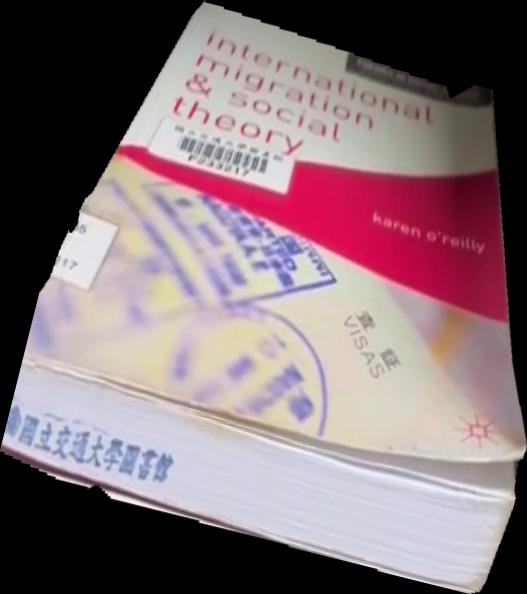flat: (1, 1, 527, 594)
